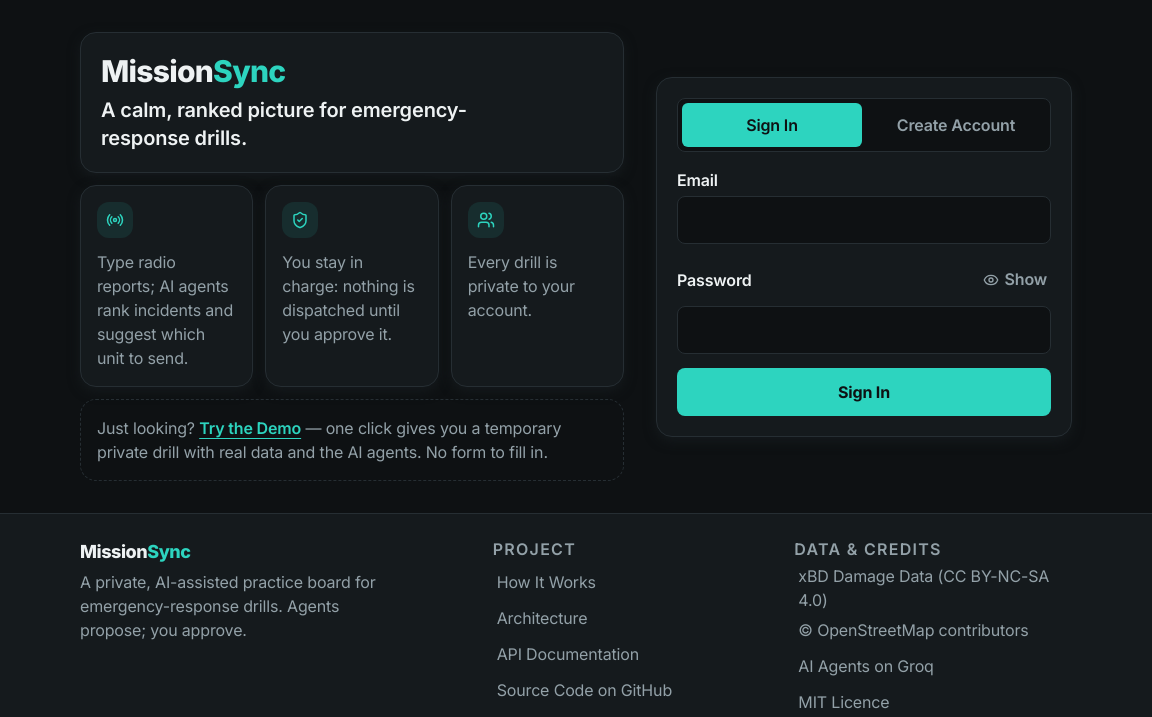
Scenario: protected routes › sends a visitor from /drills to the sign-in page, and brings them back after signing in
The image size is (1152, 717).
Check: the button "Sign In" is shown, box [677,368,1051,416]
In the field labelled "Email": (864, 220) [677,196,1051,244], type "ann@example.com"
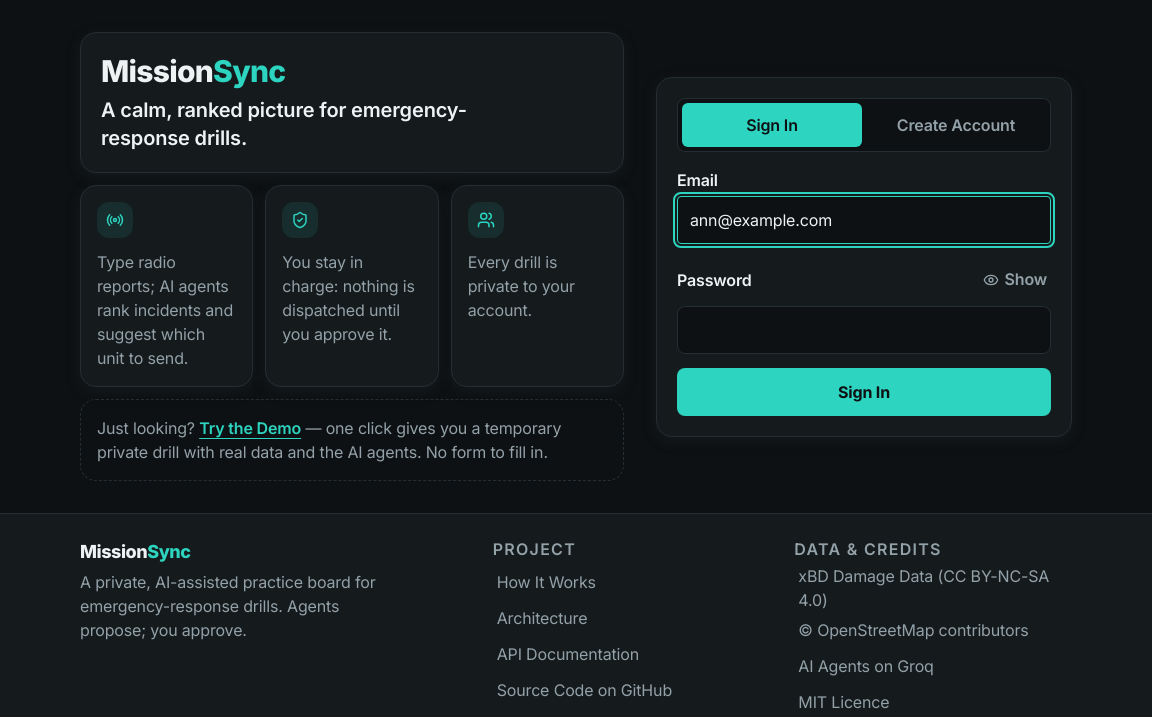
In the password field labelled "Password": (864, 330) [677,306,1051,354], type "correct horse 9"
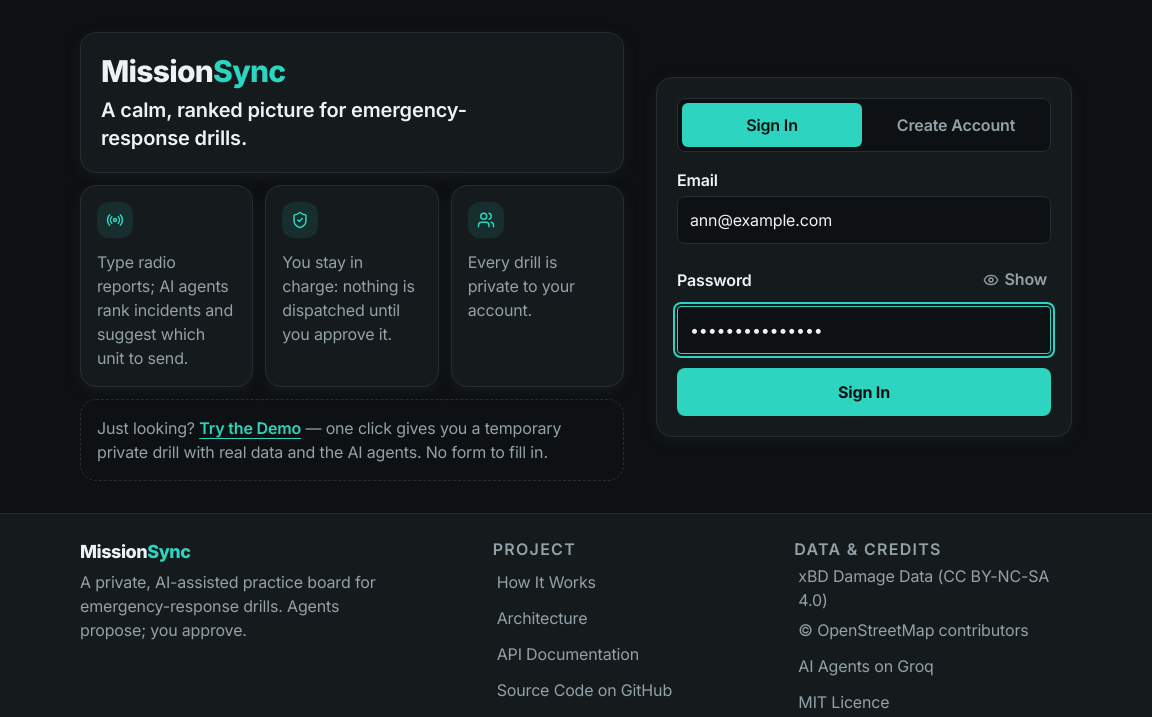
Click the button "Sign In": click(864, 392) [677,368,1051,416]
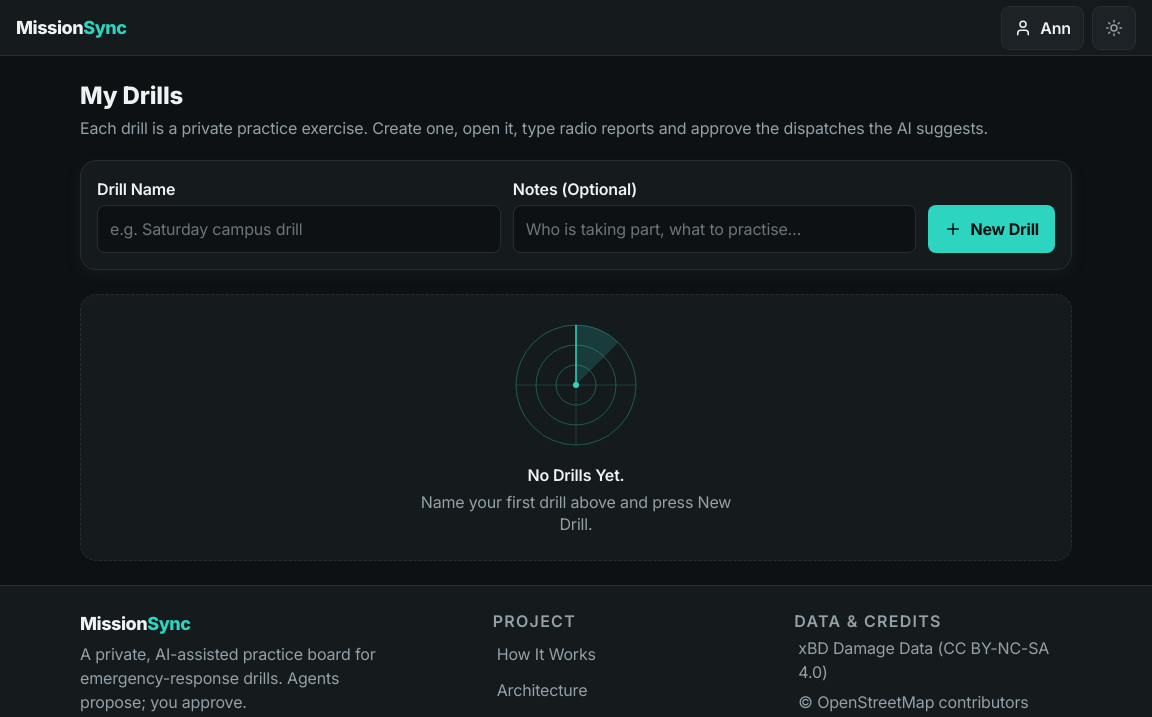
Check: the heading "My Drills" is shown, box [80,81,183,110]
